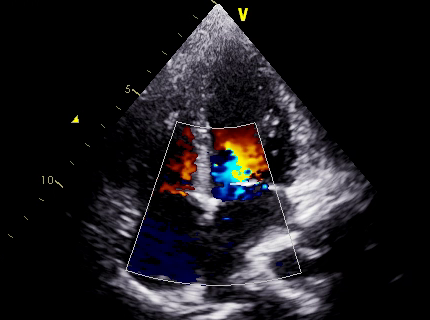MR: (213, 138, 284, 229)
